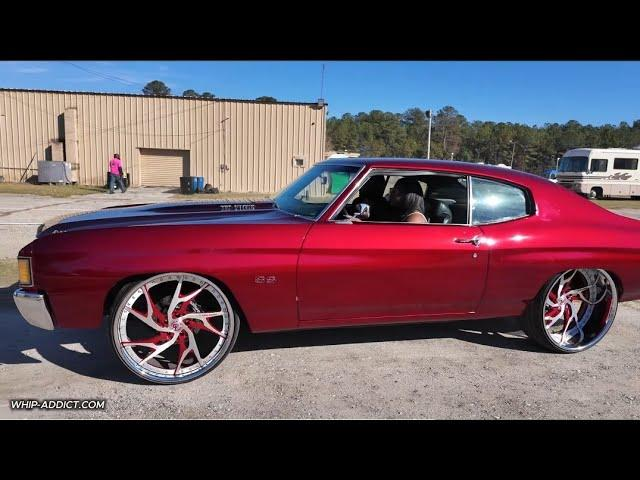chevelle-1972: (13, 158, 639, 384)
